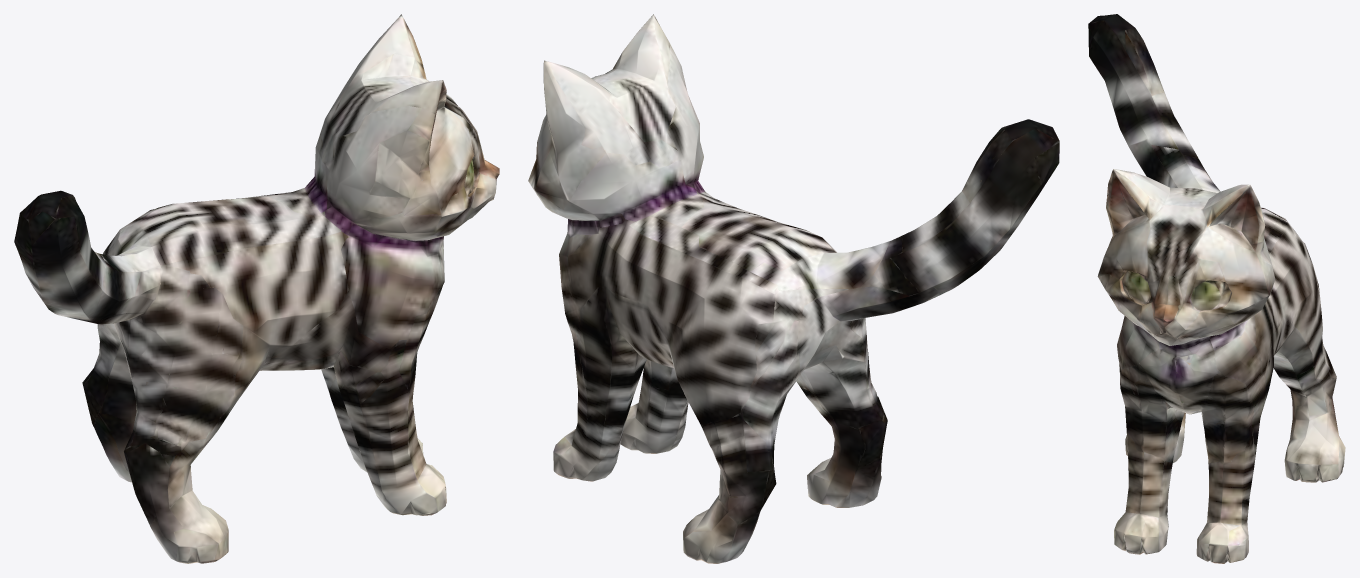
The model's file is SCUFFPAW-lo.glb.
3 views of the same model, side by side, from view 1: azimuth 30°, elevation 25°; view 2: azimuth 150°, elevation 25°; view 3: azimuth 270°, elevation 25° (orthographic). The views are drawn at different scales.
Parts seen in each view (by area): view 1: fit; view 2: fit; view 3: fit.
Part boxes in pixels (x1=…): fit: x1=14, y1=14, x2=499, y2=563; fit: x1=528, y1=14, x2=1059, y2=563; fit: x1=1088, y1=14, x2=1345, y2=563.
Bounding box in the file's own units: 1.22 × 0.9999 × 0.6119.
1 material, 1 textured.
